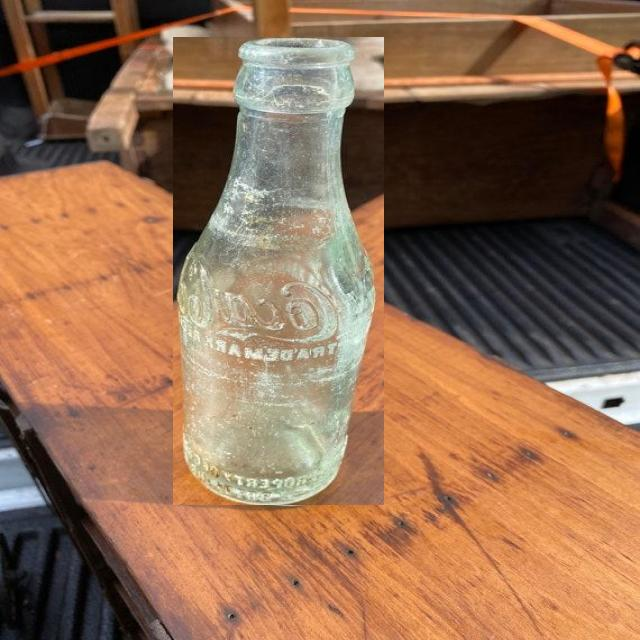coca-cola: (173, 37, 384, 505)
